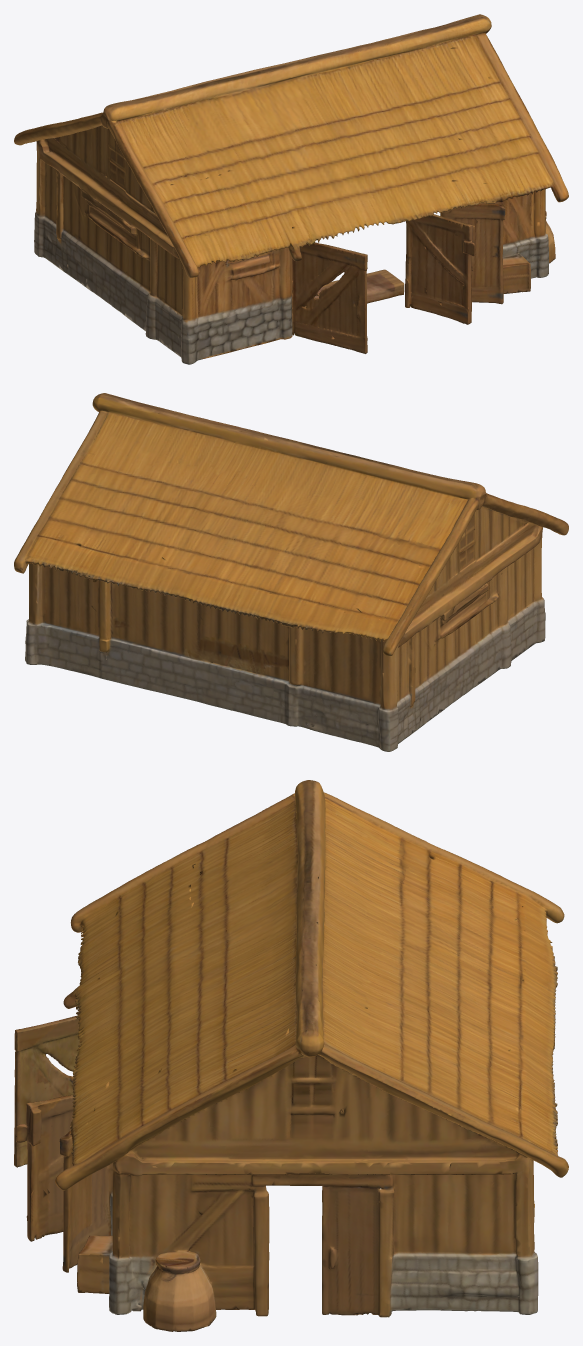
File: Rustic_Barn_0722220503_texture.fbx
The picture shows the model from 3 angles, top to bottom: view 1: azimuth 30°, elevation 25°; view 2: azimuth 150°, elevation 25°; view 3: azimuth 270°, elevation 25°; orthographic projection. The views are drawn at different scales.
Parts seen in each view (by area): view 1: Mesh_0; view 2: Mesh_0; view 3: Mesh_0.
Boxes of the visible parts, <box> form: Mesh_0: <box>14,14,568,364</box>; Mesh_0: <box>14,393,568,751</box>; Mesh_0: <box>14,780,568,1331</box>.
Bounding box in the file's own units: 200 × 100 × 173.
Materials: 1 (1 with a texture image).
